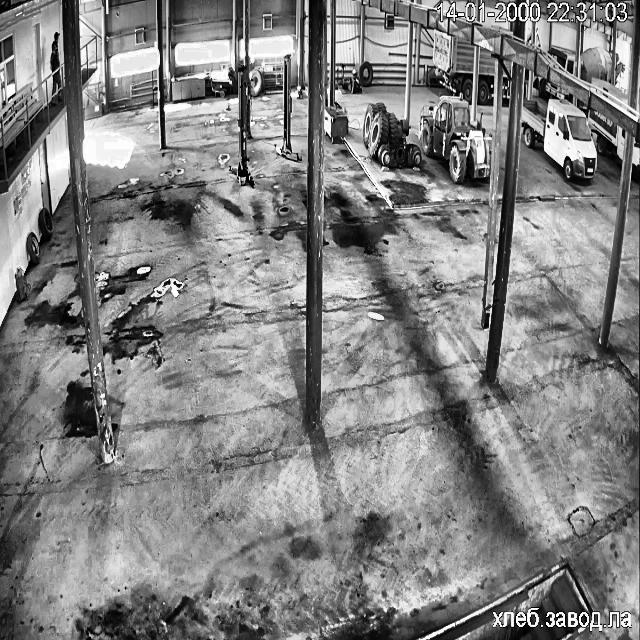class4: (52, 32, 62, 100)
class6: (420, 96, 489, 182), (362, 102, 420, 166)
class7: (521, 99, 596, 180), (432, 28, 474, 100), (588, 108, 626, 160), (477, 46, 494, 101), (592, 78, 628, 102), (498, 60, 511, 99), (632, 139, 640, 176)
tractor: (15, 268, 28, 300)
truck: (230, 66, 253, 186), (275, 54, 300, 161)
